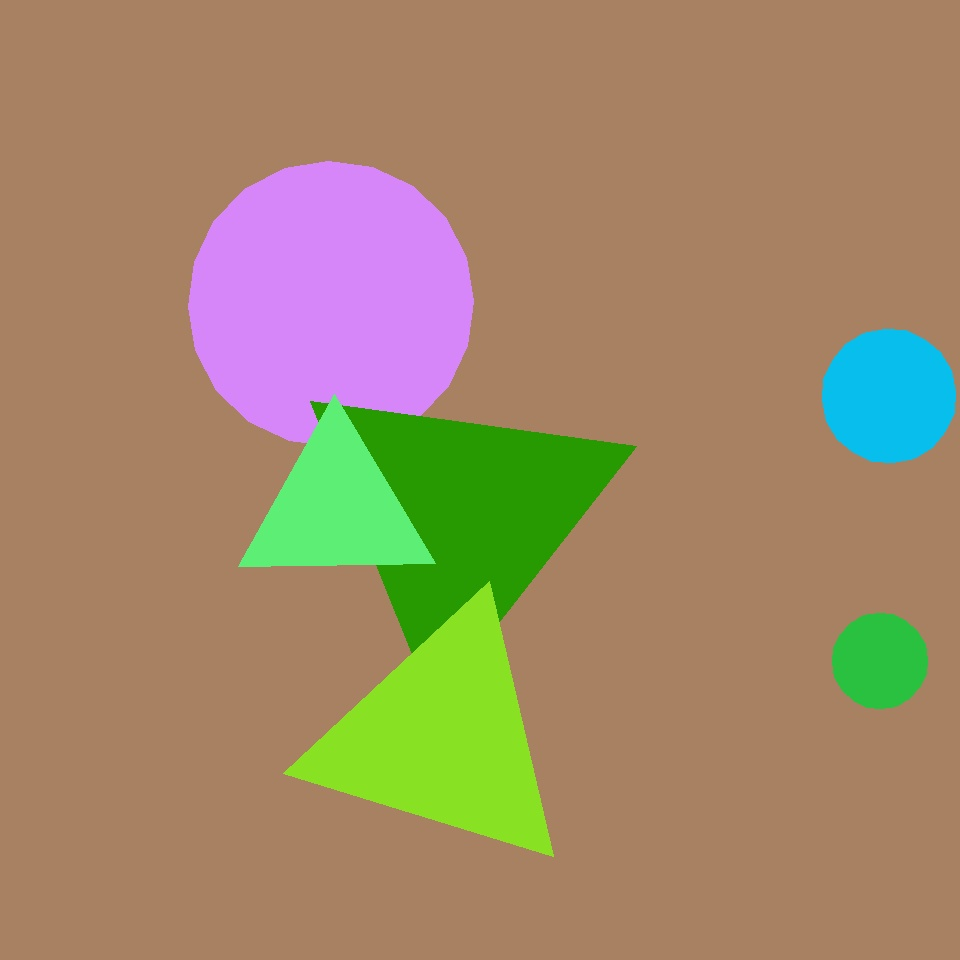circle: (297, 366, 623, 670), (307, 600, 577, 874), (237, 422, 434, 594)
triangle: (279, 373, 638, 732), (479, 487, 830, 838), (188, 162, 474, 446), (822, 330, 956, 462), (832, 614, 927, 708)
